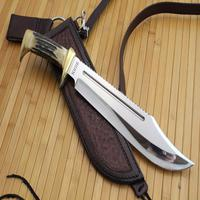knife: (20, 25, 196, 174)
